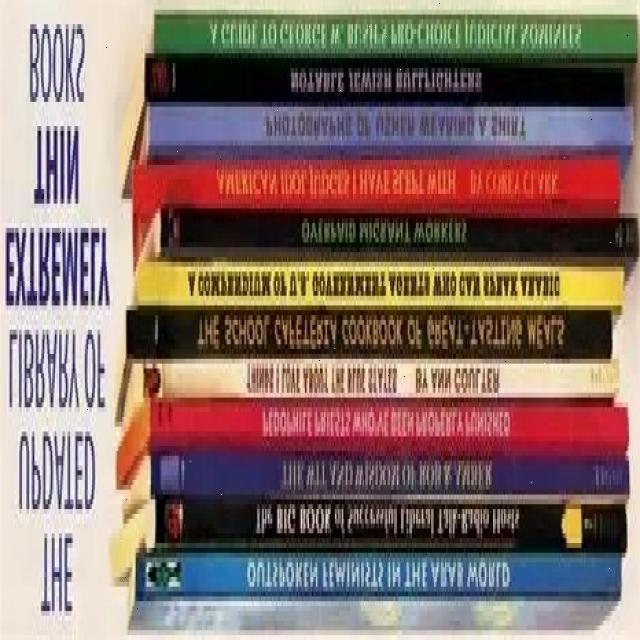book: (140, 90, 633, 160), (135, 151, 630, 214), (131, 201, 627, 262), (136, 391, 620, 451), (133, 551, 626, 608), (123, 250, 612, 307), (146, 443, 627, 499), (132, 350, 614, 405), (143, 302, 615, 356), (146, 50, 631, 101), (150, 495, 625, 547), (147, 7, 633, 56)
